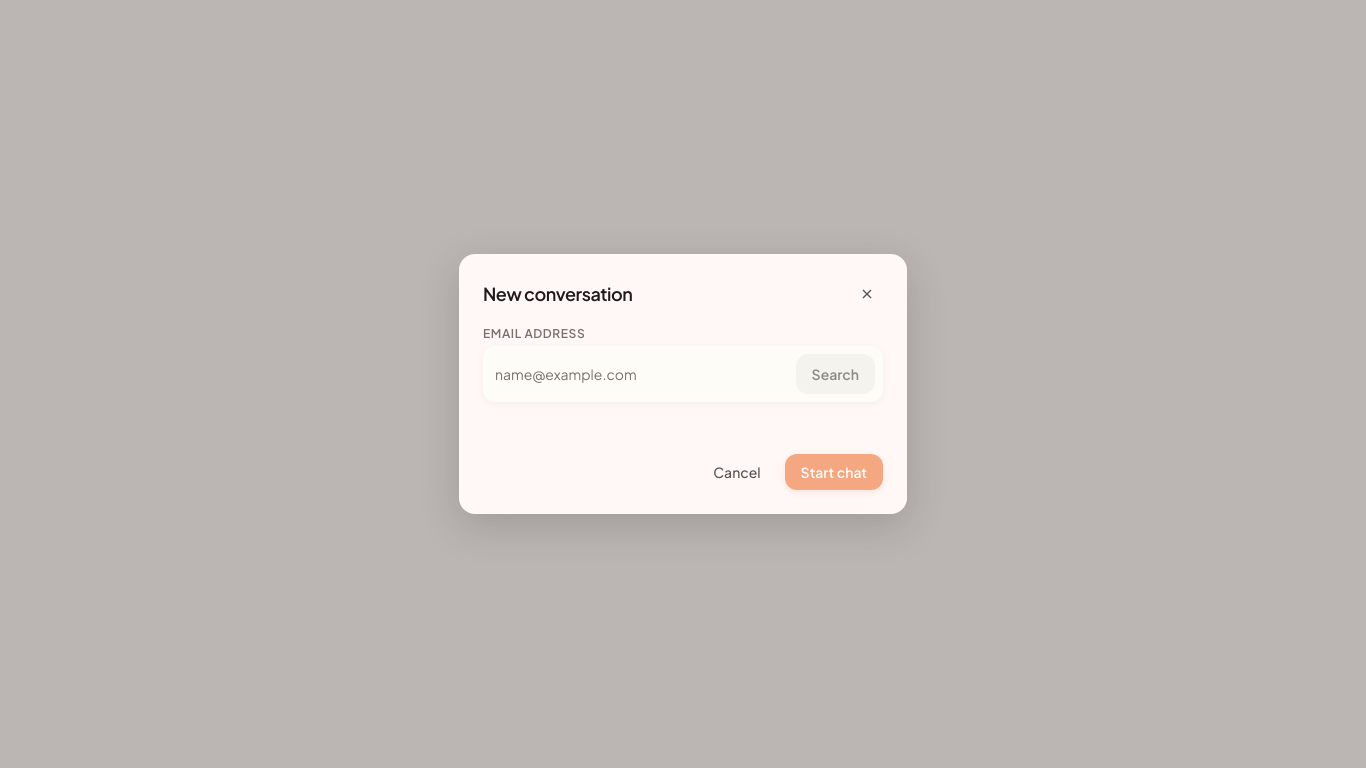
Test: диалог создания беседы: состояние одно, и оно наблюдаемо › незнакомый отказ поиска назван отказом, а не «никого нет»
The width and height of the screenshot is (1366, 768).
Type "maria@example.com" into the field labelled "Email address" at (639, 374), box [491,356,788,392]
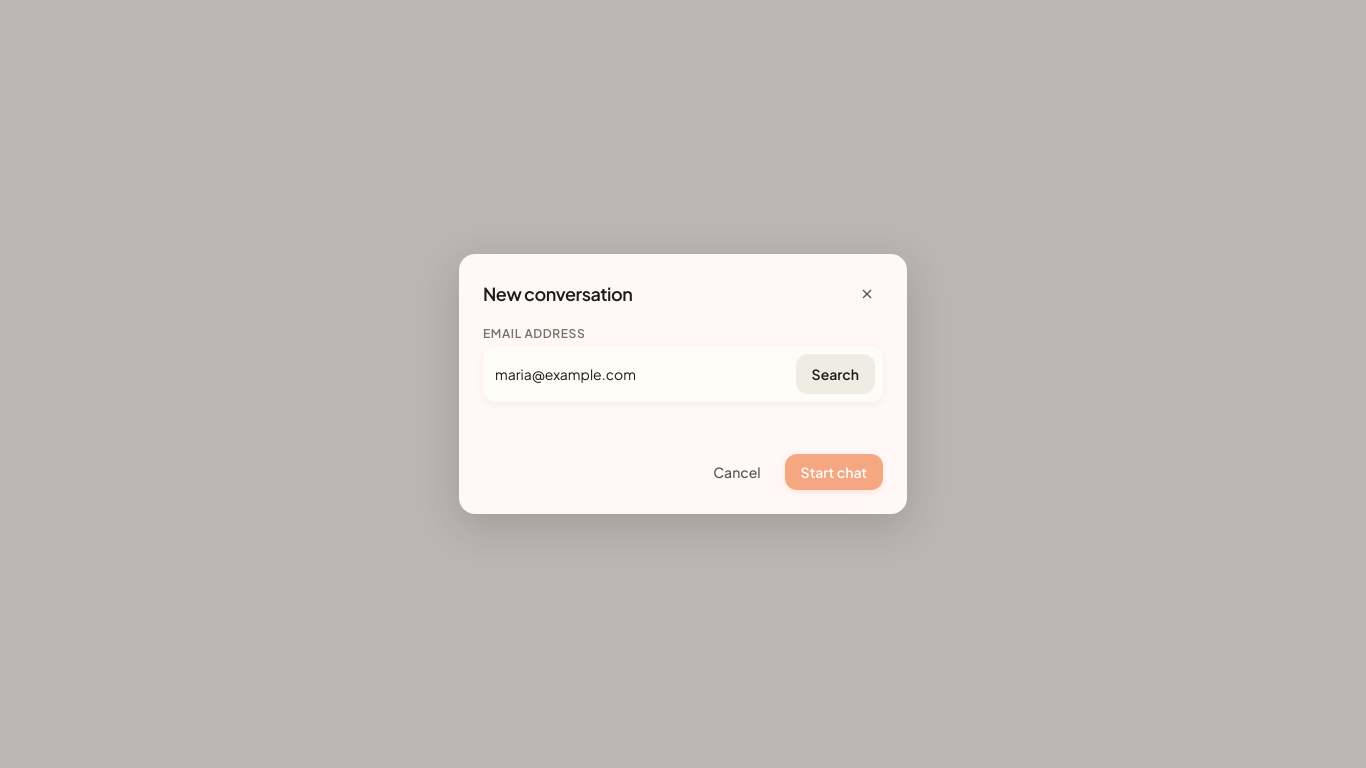
Click the button "Search" at (835, 374), box [796,354,875,394]
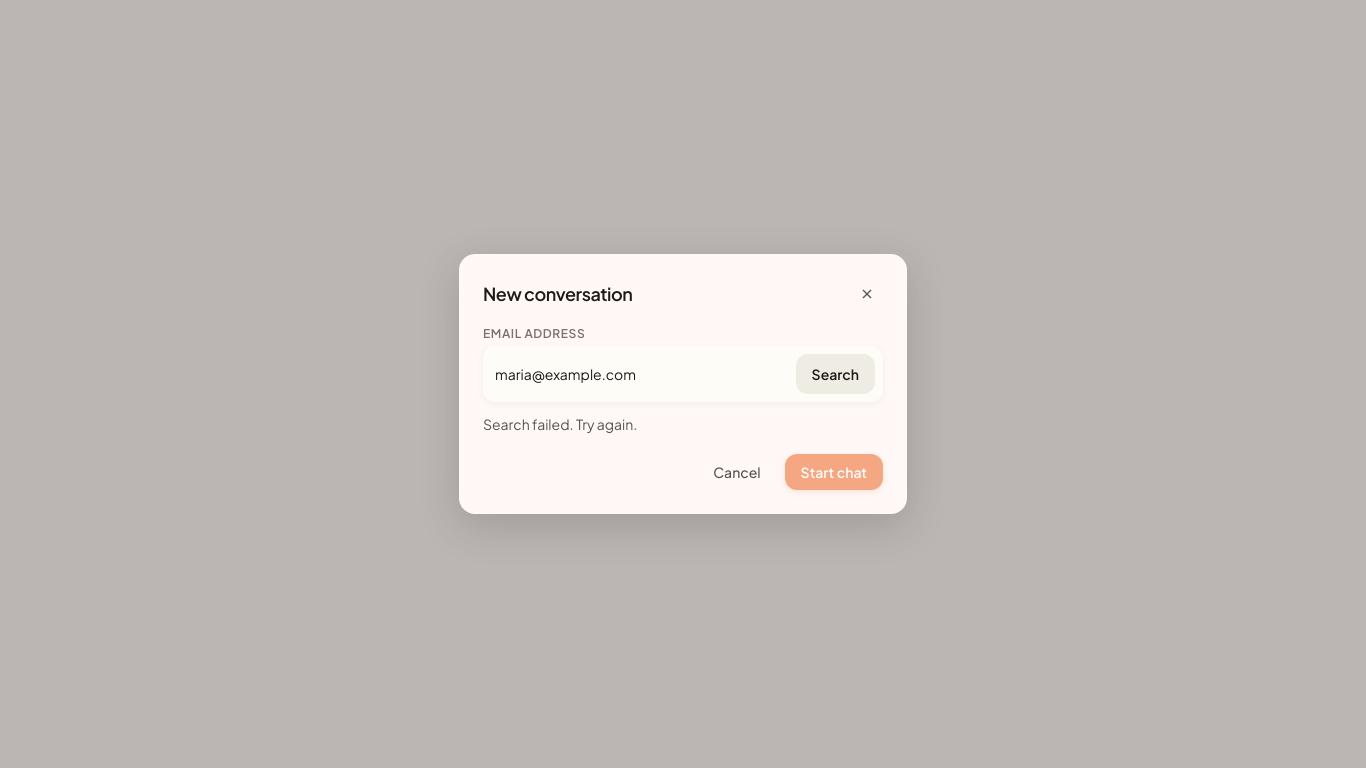
expect the text "Search failed. Try again." is shown: met, box [483,415,637,433]
